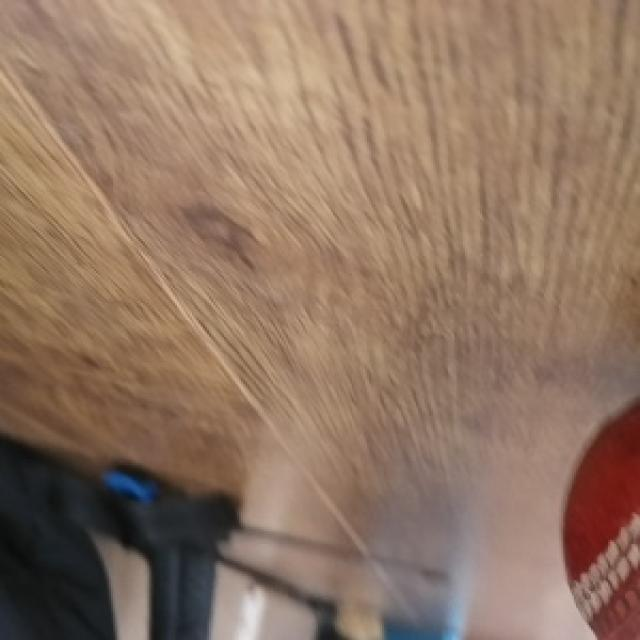ball: (563, 397, 640, 640)
